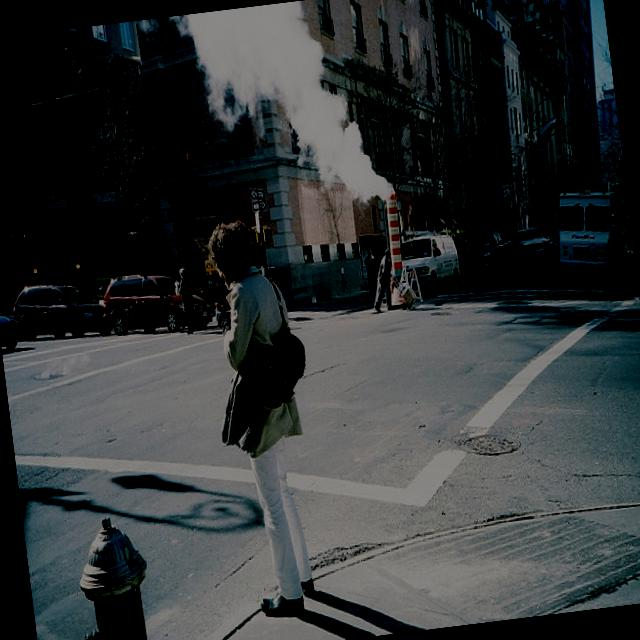Vehicle: (98, 266, 214, 341), (550, 180, 626, 280), (10, 276, 112, 346), (398, 228, 462, 296), (458, 227, 516, 280), (512, 225, 554, 264), (0, 297, 17, 348)
